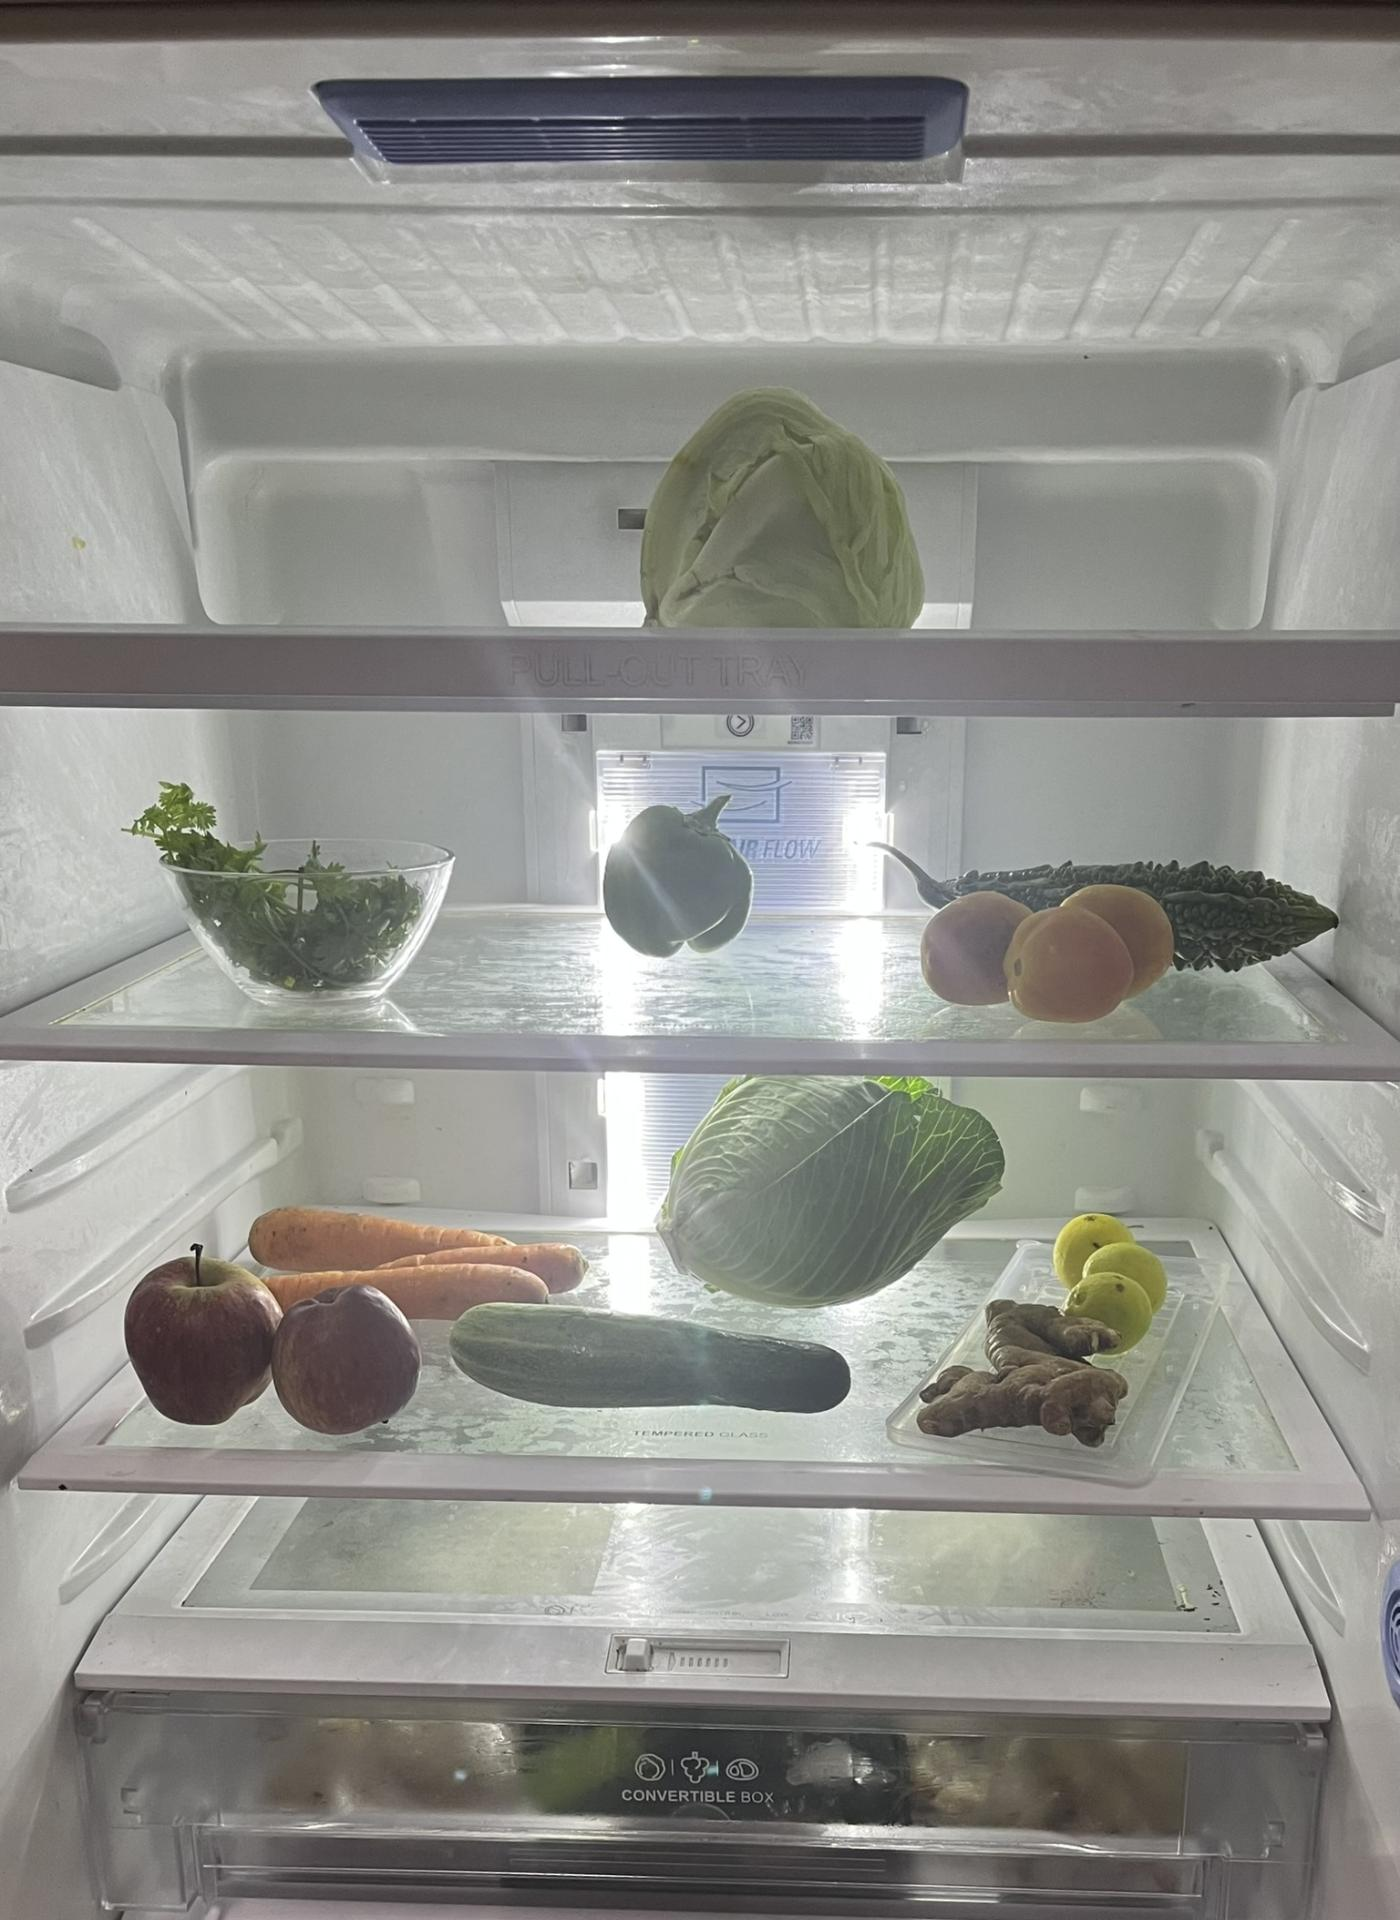apple: (125, 1230, 422, 1434)
cabbage: (658, 1079, 1005, 1315), (653, 377, 932, 631)
capsicum: (604, 789, 753, 956)
carrots: (252, 1182, 589, 1303)
coriander: (134, 784, 425, 996)
cucumber: (462, 1295, 856, 1422)
ginger: (912, 1291, 1129, 1452)
lemon: (1045, 1201, 1169, 1331)
tomato: (912, 882, 1181, 1012)
